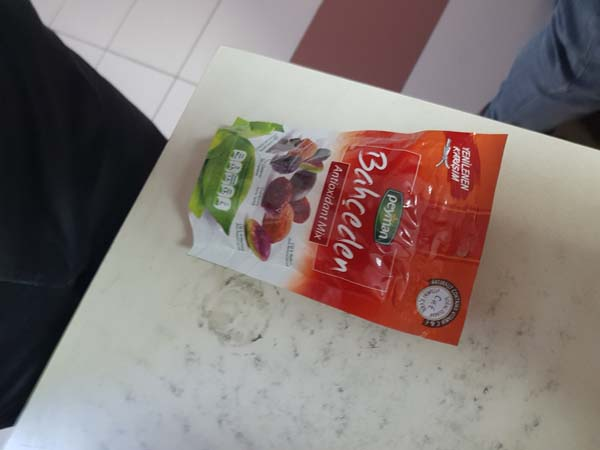bahcedenantioxidan: (175, 114, 512, 347)
